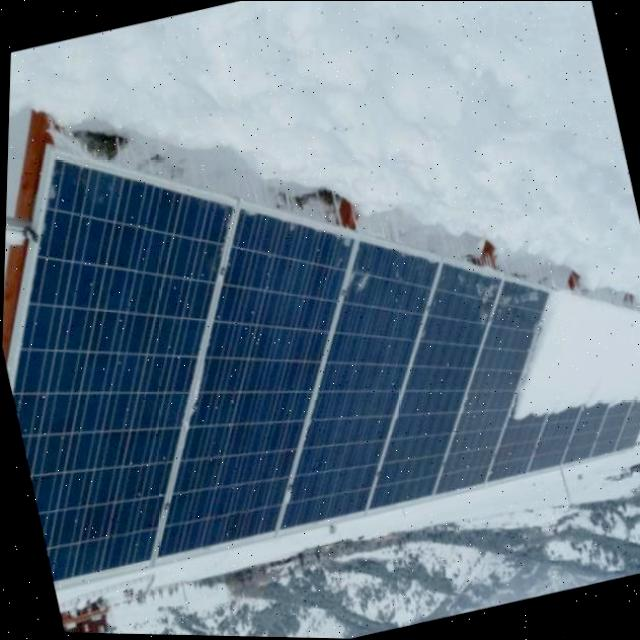Anomaly Solar Panel: (479, 281, 640, 527)
Normal Solar Panel: (5, 163, 237, 613), (154, 214, 351, 585), (277, 243, 435, 552), (355, 261, 504, 530), (431, 282, 547, 508)
Snow: (511, 293, 640, 460)
